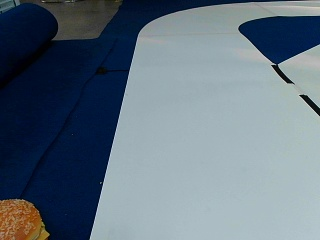burger: (0, 197, 45, 239)
